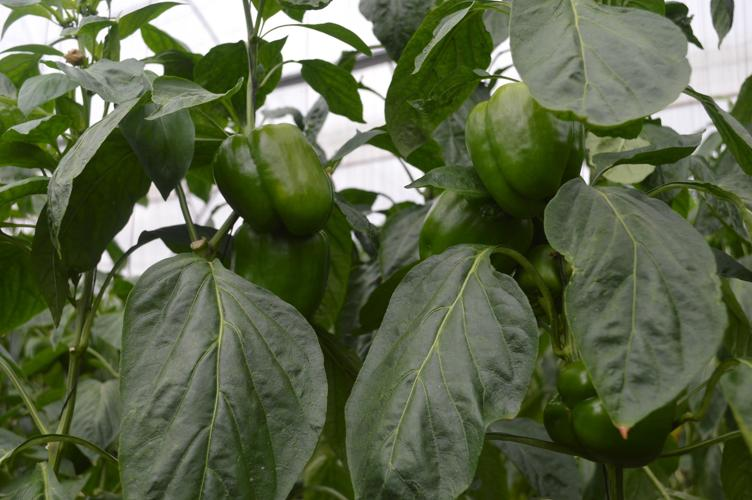BellPepper: (456, 83, 596, 226), (211, 125, 342, 258), (536, 353, 681, 473), (406, 180, 534, 293)
